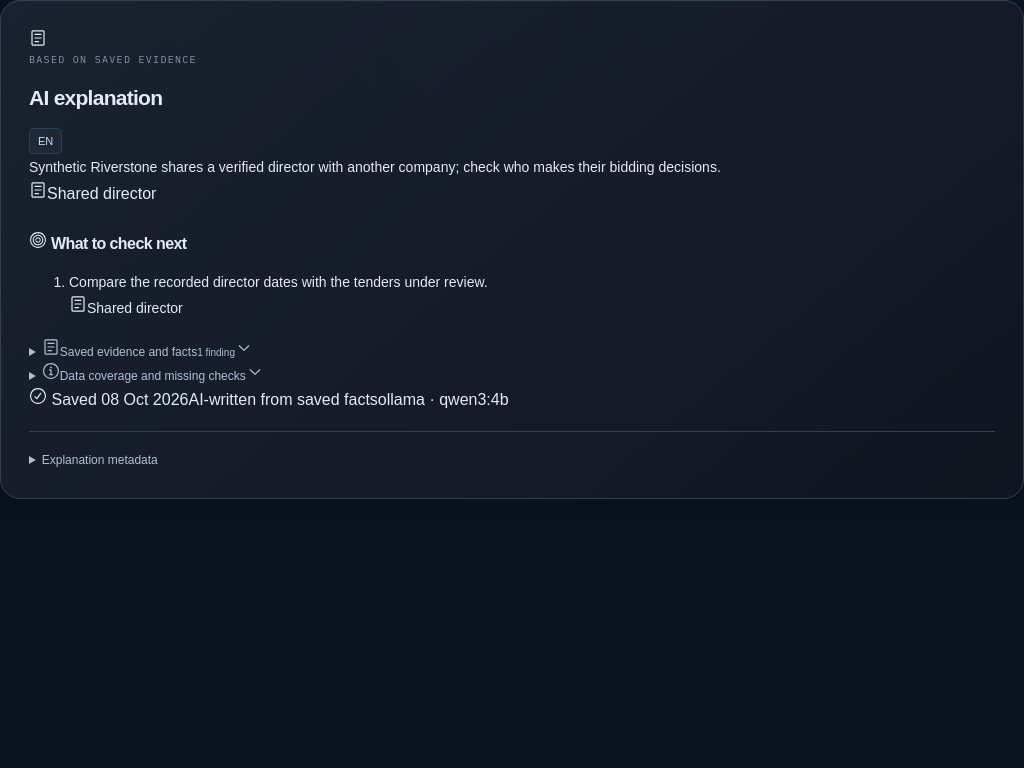
Test case: saved explanation presentation › uses saved narrative and follow-up checks without repeating generic summary, and opens cited facts
The width and height of the screenshot is (1024, 768).
Expected: the heading "AI explanation" is shown, [29,86,162,109]
Expected: the text "Synthetic Riverstone shares a verified director with another company; check who makes their bidding decisions." is shown, [29,159,721,175]
Click the link with aria-label "Read evidence for Shared director".
click(93, 193)  # box [29,185,156,202]
(page scrolled)
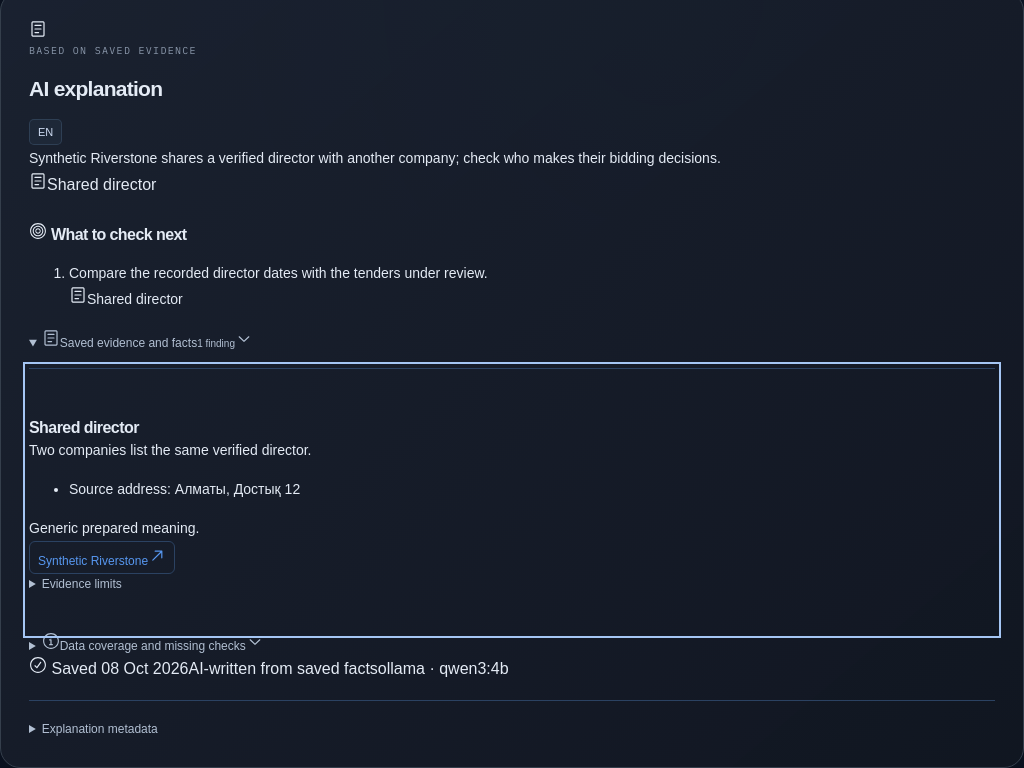
Expected: the text "ollama · qwen3:4b" is shown, [378,660,509,677]
Expected: the text "Two companies list the same verified director." is shown, [29,442,312,458]
